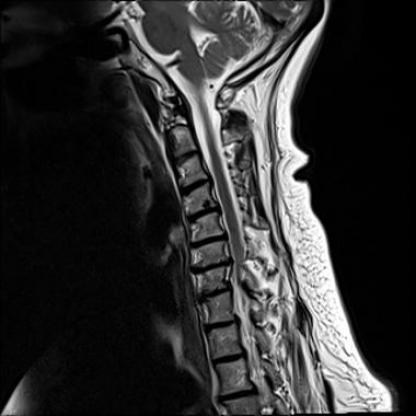Disc Bulgerotation: (189, 259, 235, 274), (189, 235, 227, 249)
Osteophytesrotation: (190, 260, 235, 274), (189, 235, 227, 249)
